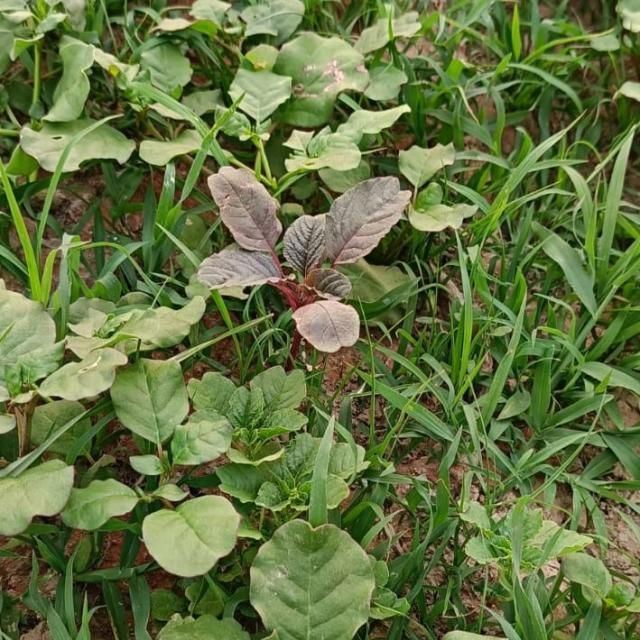plant: (199, 168, 411, 353)
